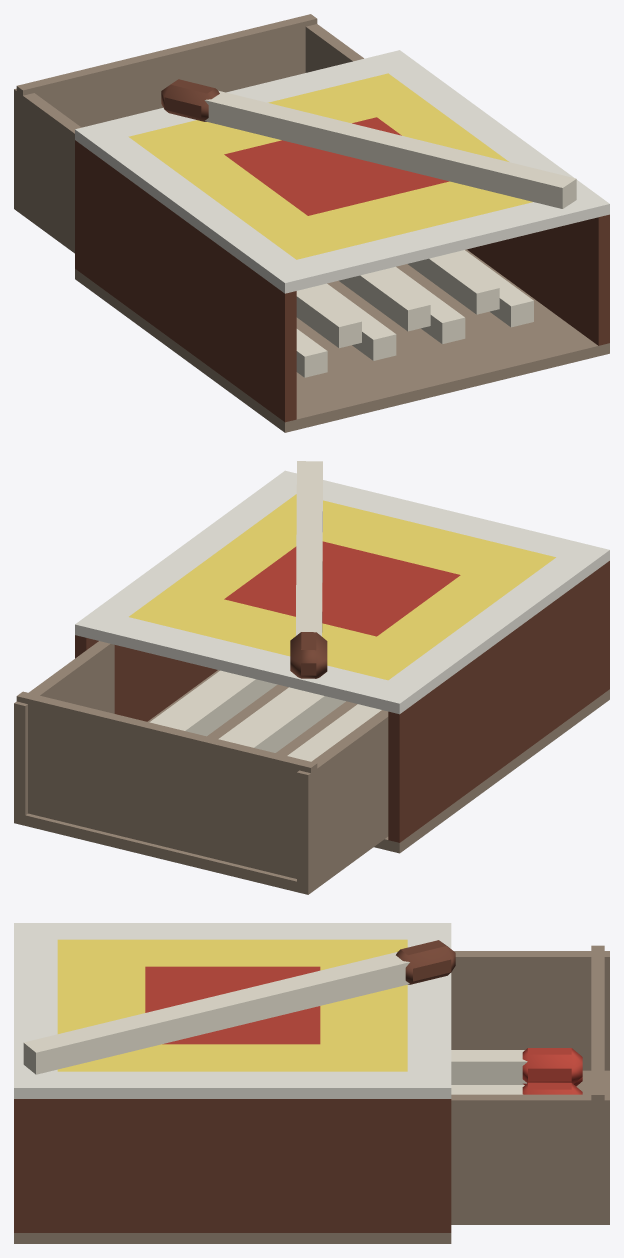
The model's file is matches.glb.
3 renders of one model, top to bottom at view 1: azimuth 30°, elevation 25°; view 2: azimuth 150°, elevation 25°; view 3: azimuth 270°, elevation 25°, orthographic. The views are drawn at different scales.
Parts seen in each view (by area): view 1: body; view 2: body; view 3: body.
Boxes of the visible parts, left/top/right/bottom form: body: left=14, top=14, right=609, bottom=432; body: left=14, top=461, right=609, bottom=894; body: left=14, top=923, right=609, bottom=1243.
Bounding box in the file's own units: 0.0357 × 0.0186 × 0.0545.
